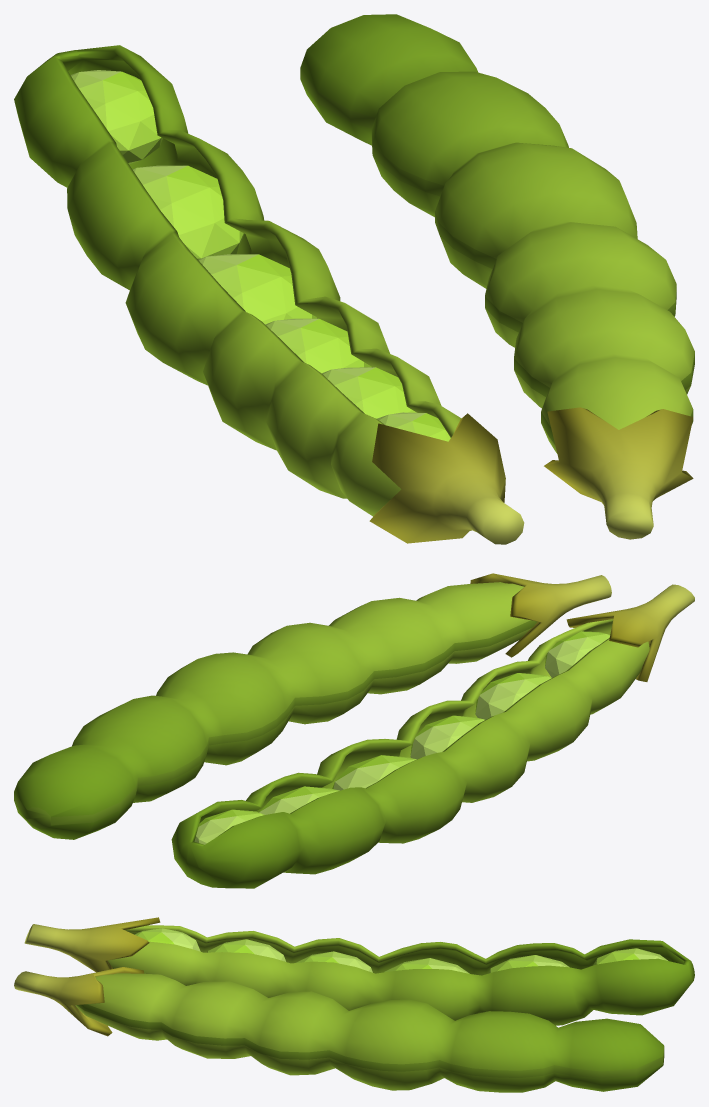
The model's file is Green Bean.fbx.
The picture shows the model from 3 angles, top to bottom: view 1: azimuth 30°, elevation 25°; view 2: azimuth 150°, elevation 25°; view 3: azimuth 270°, elevation 25°; orthographic projection. The views are drawn at different scales.
Visible parts, largest first — view 1: Green Bean 2, Green Bean; view 2: Green Bean, Green Bean 2; view 3: Green Bean, Green Bean 2.
Part boxes in pixels (box(x1,y1,x2,y2)): Green Bean 2: box(14, 45, 524, 544); Green Bean: box(300, 14, 694, 539); Green Bean: box(14, 573, 611, 839); Green Bean 2: box(171, 584, 694, 888); Green Bean: box(14, 967, 664, 1092); Green Bean 2: box(24, 917, 694, 1025).
Bounding box in the file's own units: 11.14 × 3.52 × 22.74.
